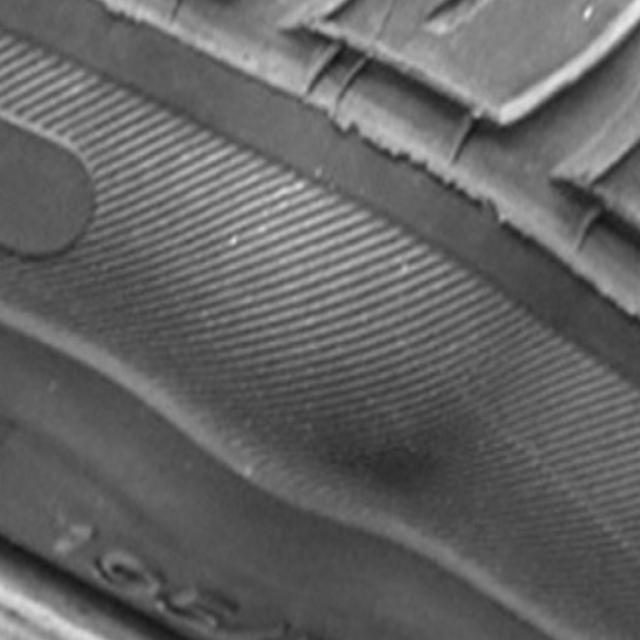Bulge: (180, 83, 530, 521)
